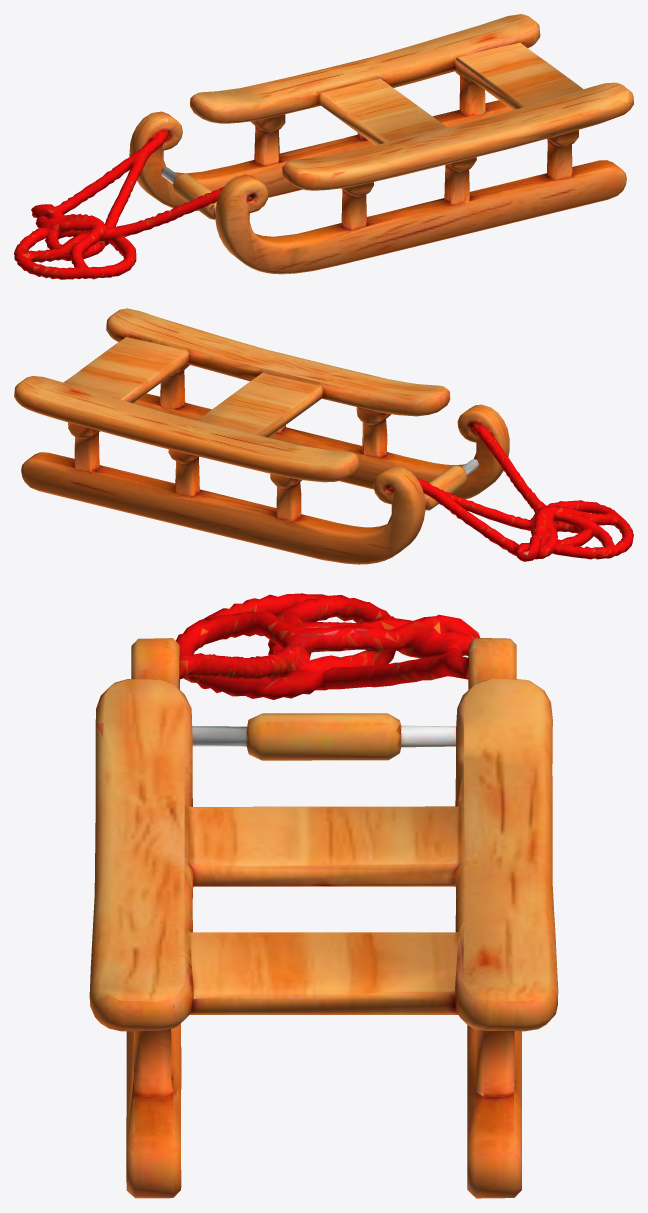
The model's file is sled.glb.
3 renders of one model, top to bottom at view 1: azimuth 30°, elevation 25°; view 2: azimuth 150°, elevation 25°; view 3: azimuth 270°, elevation 25°, orthographic. The views are drawn at different scales.
Visible parts, largest first — view 1: sled; view 2: sled; view 3: sled.
Boxes of the visible parts, left/top/right/bottom form: sled: left=14, top=14, right=633, bottom=279; sled: left=14, top=308, right=633, bottom=564; sled: left=89, top=593, right=558, bottom=1198.
Size of the model in its own units: 5.47 by 1 by 1.99.
Materials: 1 (1 with a texture image).
